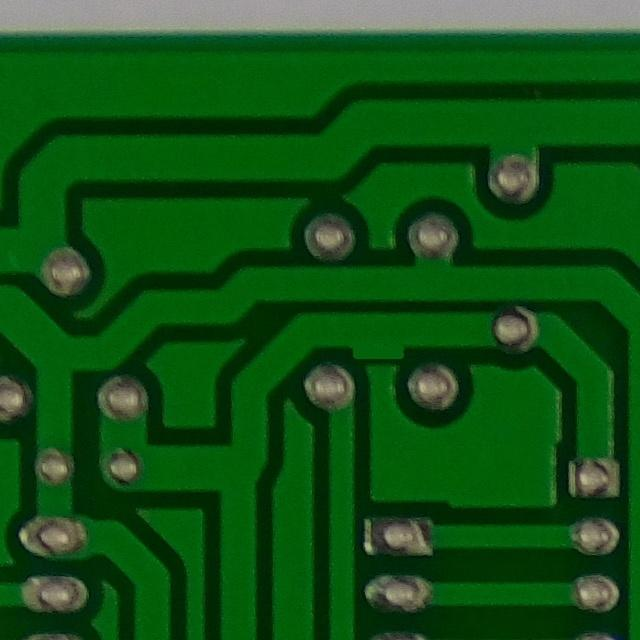spur: (333, 320, 428, 374)
